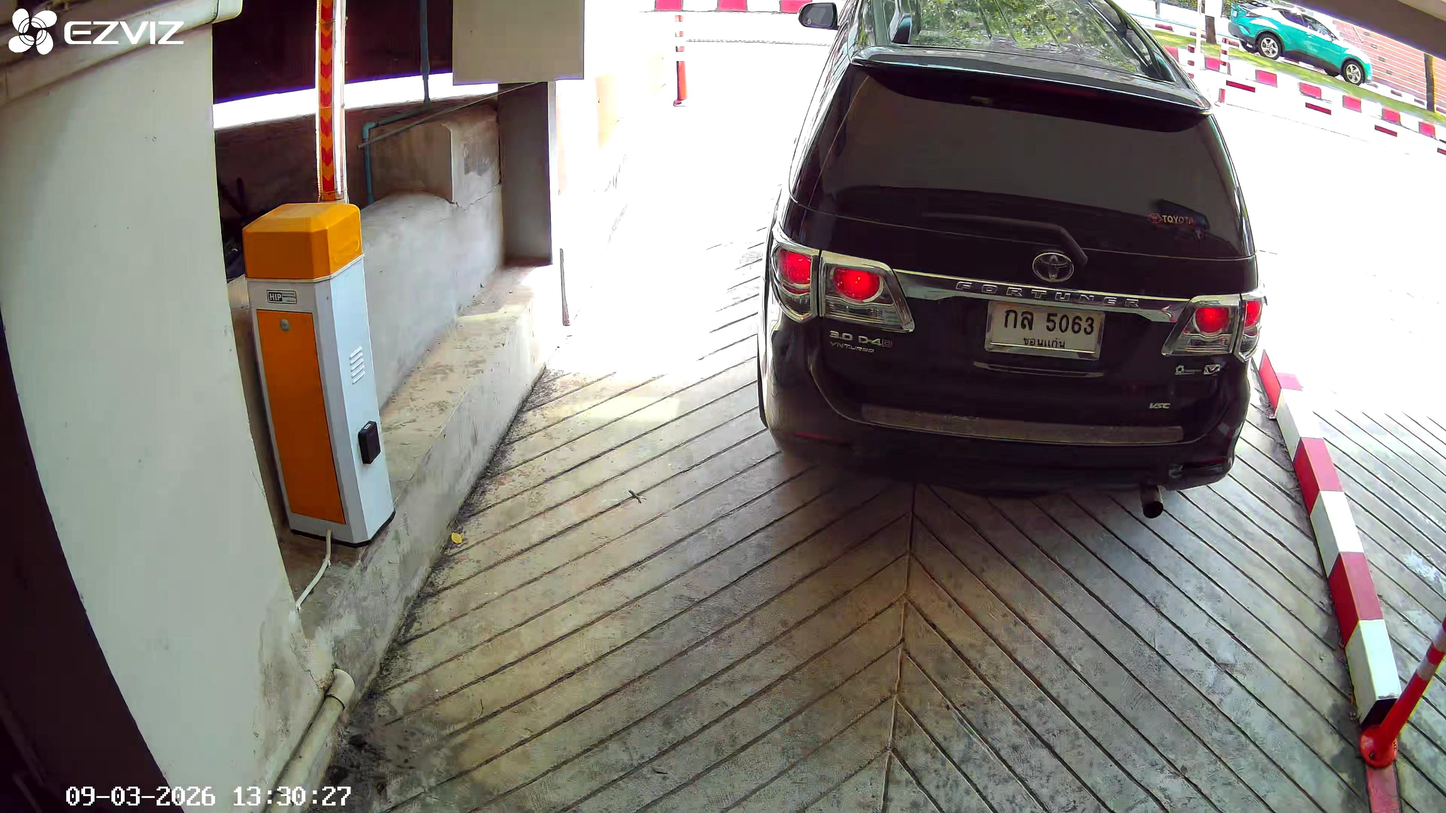car: (754, 20, 1269, 522)
license-plate: (982, 298, 1108, 363)
